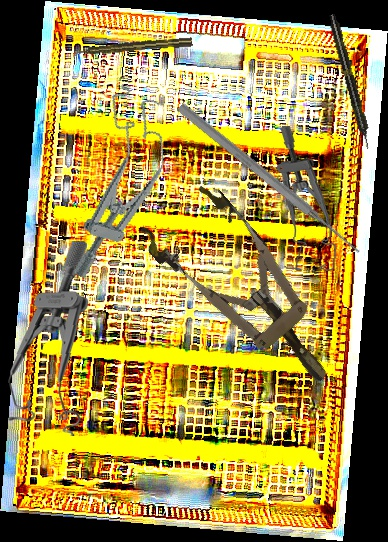Handpiece: (326, 12, 374, 151), (74, 36, 193, 58)
Pusher: (175, 100, 364, 259)
Speculum: (133, 172, 359, 412), (58, 82, 184, 291), (1, 240, 94, 439), (271, 125, 343, 274)
